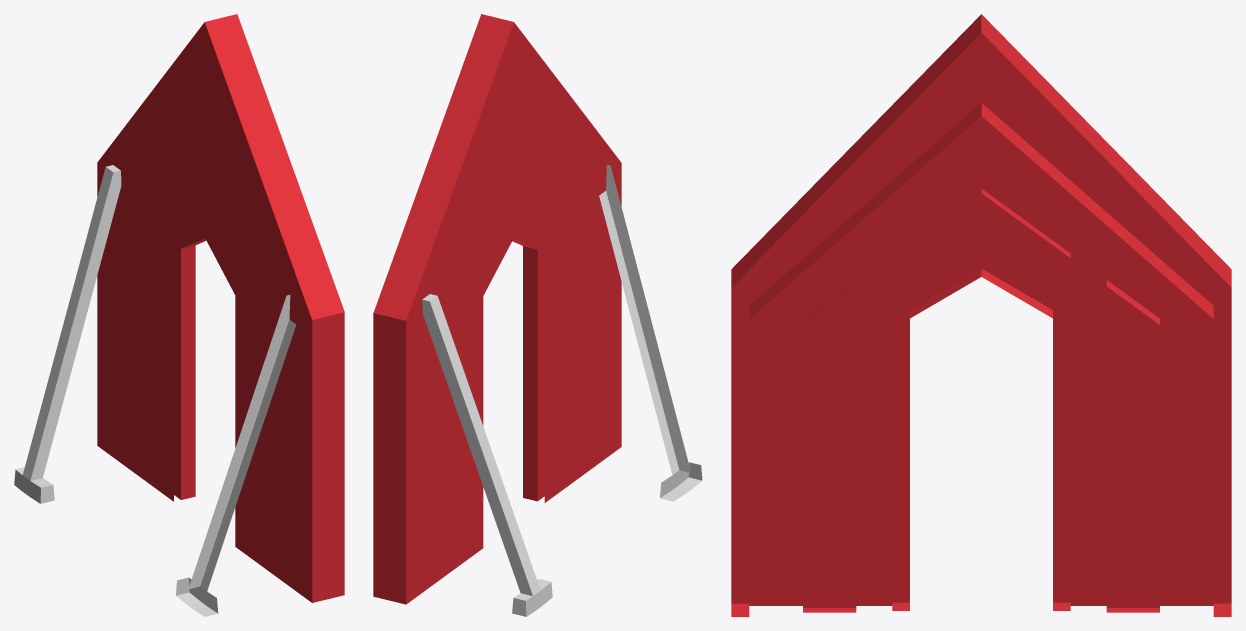
The model's file is house sides2.glb.
3 renders of one model, left to right at view 1: azimuth 30°, elevation 25°; view 2: azimuth 150°, elevation 25°; view 3: azimuth 270°, elevation 25°, orthographic. The views are drawn at different scales.
Parts seen in each view (by area): view 1: Cube, Cube.002, Cube.001; view 2: Cube, Cube.002, Cube.001; view 3: Cube.
Part boxes in pixels (left/top/right/bottom): Cube: left=97, top=14, right=344, bottom=602; Cube.002: left=14, top=165, right=121, bottom=503; Cube.001: left=176, top=294, right=296, bottom=616; Cube: left=373, top=14, right=621, bottom=604; Cube.002: left=422, top=294, right=552, bottom=616; Cube.001: left=599, top=164, right=702, bottom=501; Cube: left=731, top=14, right=1231, bottom=616.
Bounding box in the file's own units: 0.8613 × 3.09 × 2.39.
